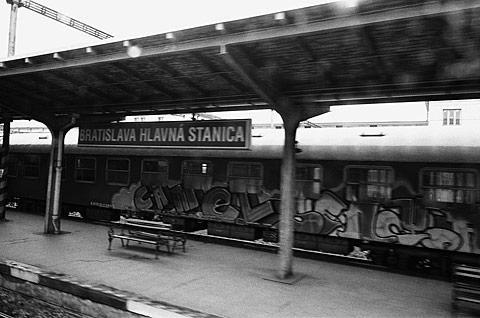train: (1, 145, 480, 283)
